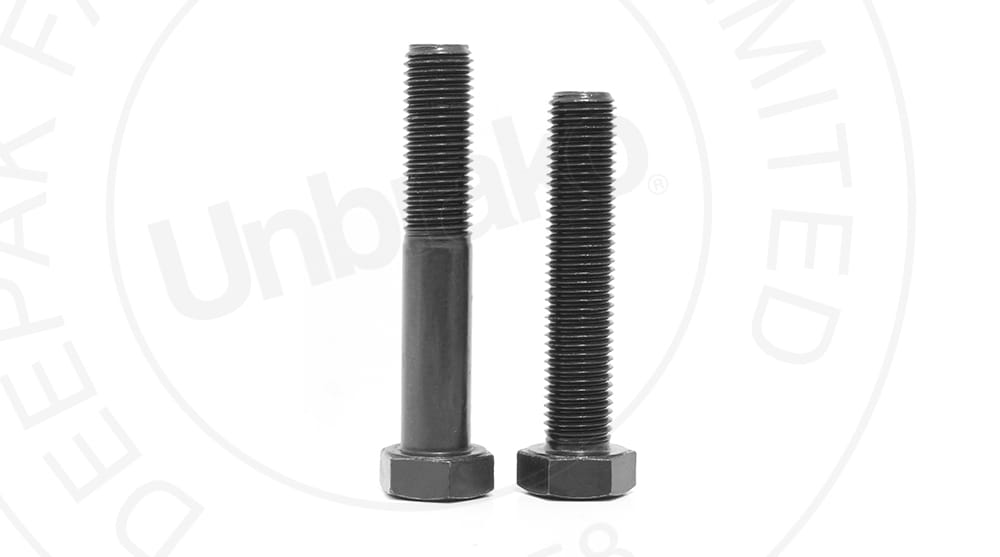screw: (520, 83, 647, 504), (389, 47, 489, 499)
